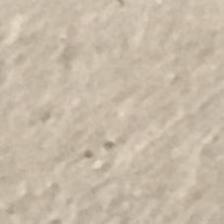Non_Crack: (20, 10, 212, 224)
